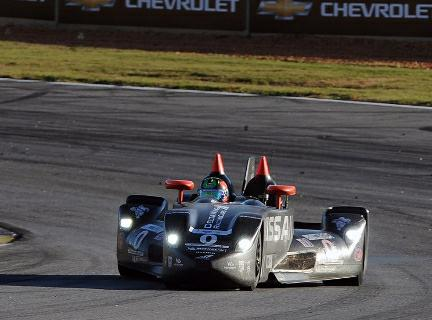日产-DeltaWing: (106, 152, 378, 295)
